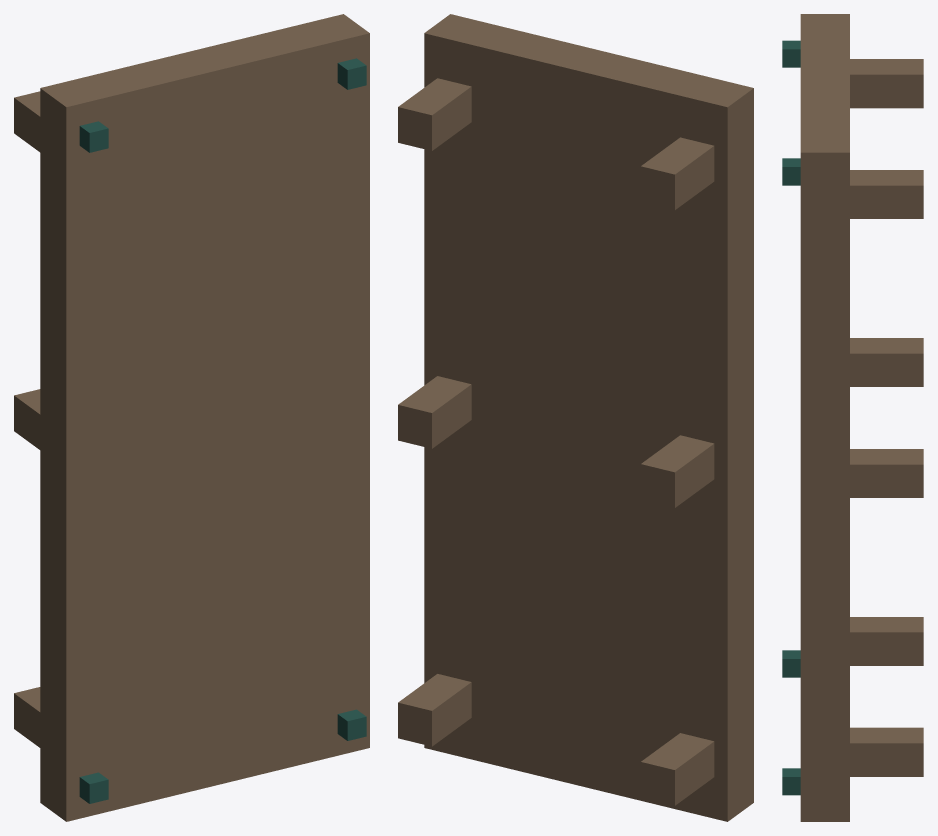
The model's file is SM_Watergate_Dock.obj.
3 renders of one model, left to right at view 1: azimuth 30°, elevation 25°; view 2: azimuth 150°, elevation 25°; view 3: azimuth 270°, elevation 25°, orthographic. The views are drawn at different scales.
Visible parts, largest first — view 1: Mudbrick, PatinaBronze; view 2: Mudbrick; view 3: Mudbrick, PatinaBronze.
Boxes of the visible parts, x1,y1,x2,y2 form: Mudbrick: (14, 14, 369, 821); PatinaBronze: (79, 58, 366, 803); Mudbrick: (398, 14, 753, 821); Mudbrick: (800, 14, 923, 821); PatinaBronze: (782, 40, 800, 795).
Size of the model in its own units: 800 by 1800 by 345.
